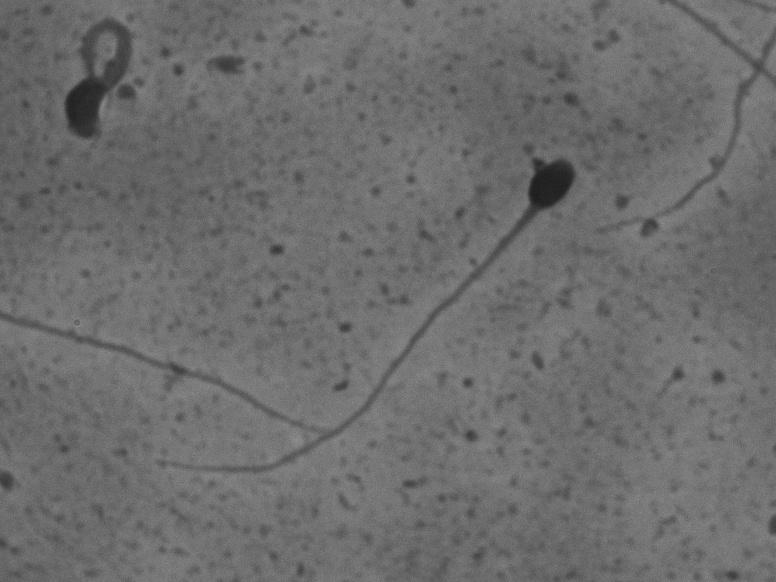Abnormal: (37, 12, 165, 160)
Normal: (125, 115, 607, 528)
